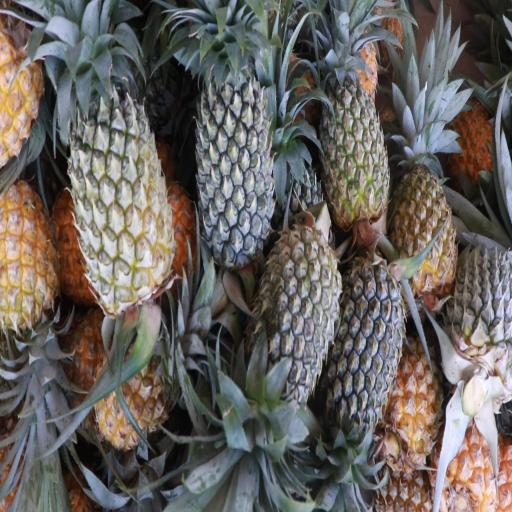------------------------------: (68, 81, 174, 300), (316, 40, 391, 220)
Pineapple - v8 v1: (101, 316, 205, 449), (0, 180, 60, 366), (393, 127, 458, 291), (388, 336, 456, 474)
